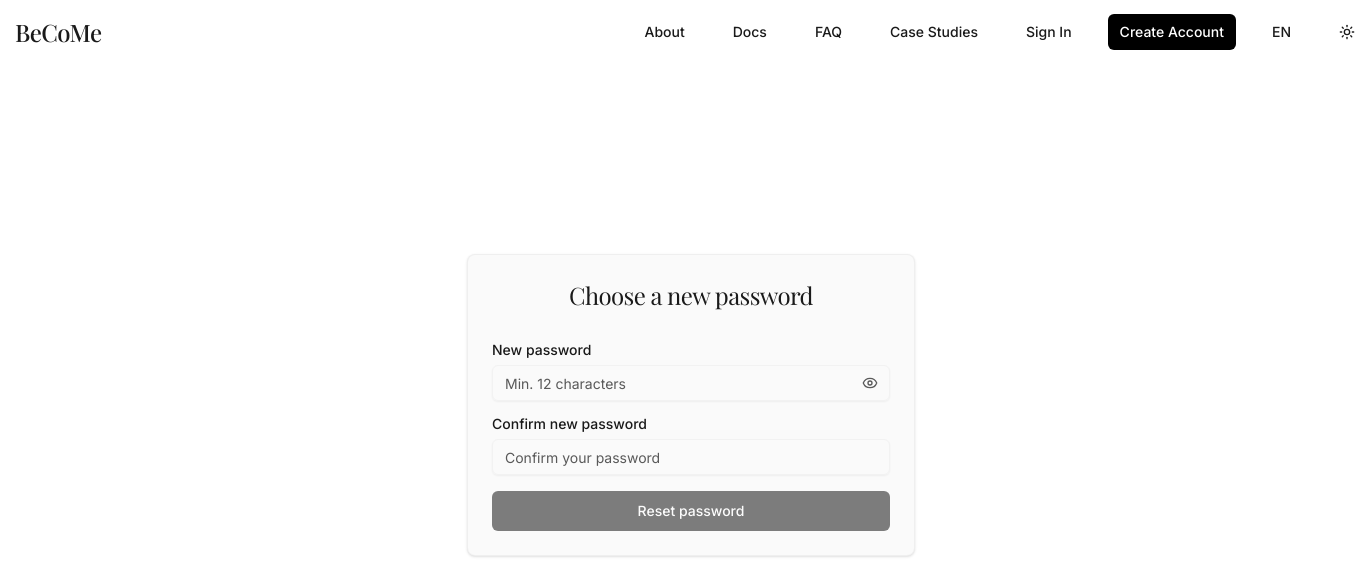
Test: ResetPassword › shows an error when passwords do not match
Type "TestPass123!@#" into the password field with placeholder "Min. 12 characters" at (691, 383), box [492,365,890,401]
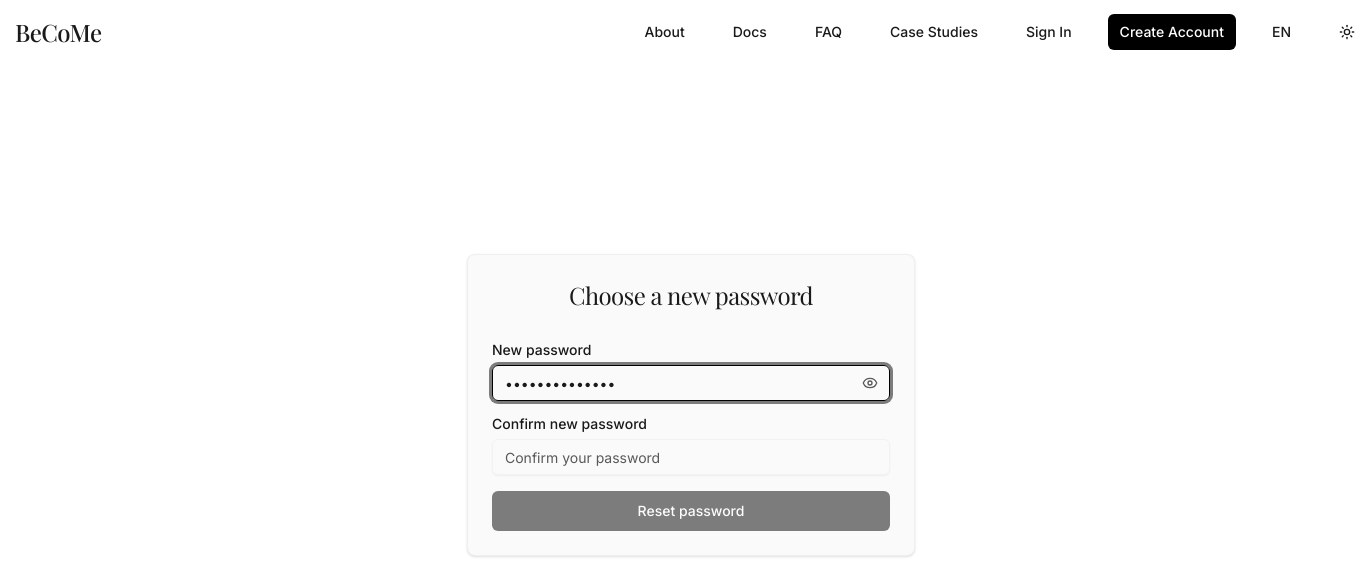
Type "Different123!@#" into the password field with placeholder "Confirm your password" at (691, 457), box [492,439,890,475]
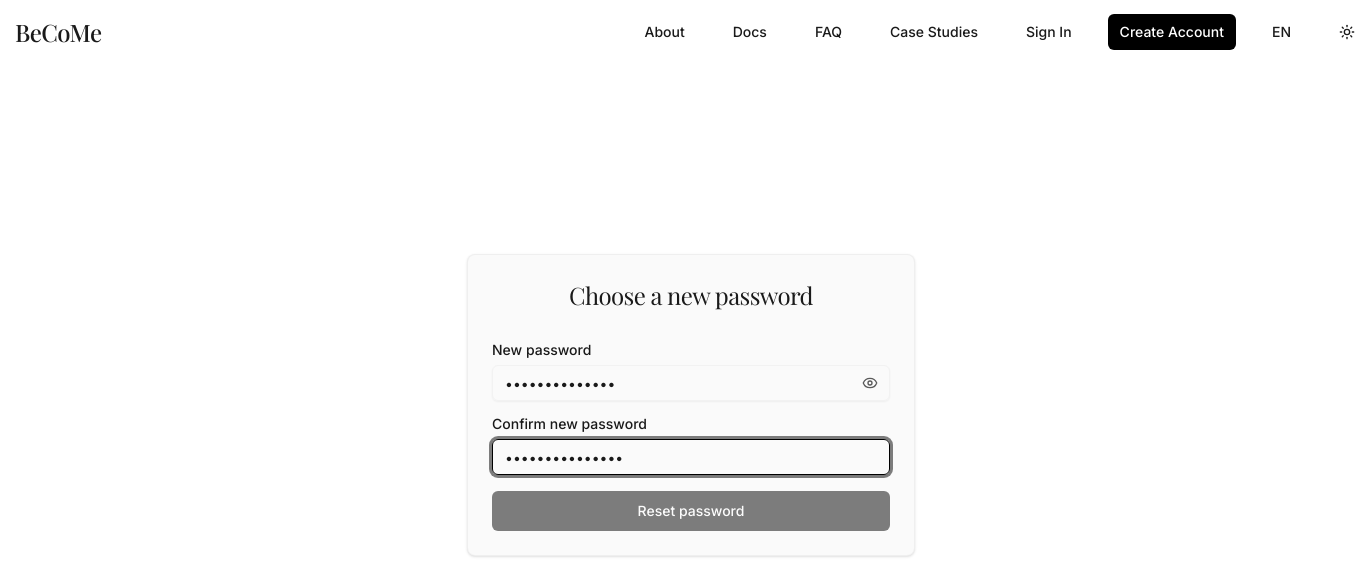
Press Tab
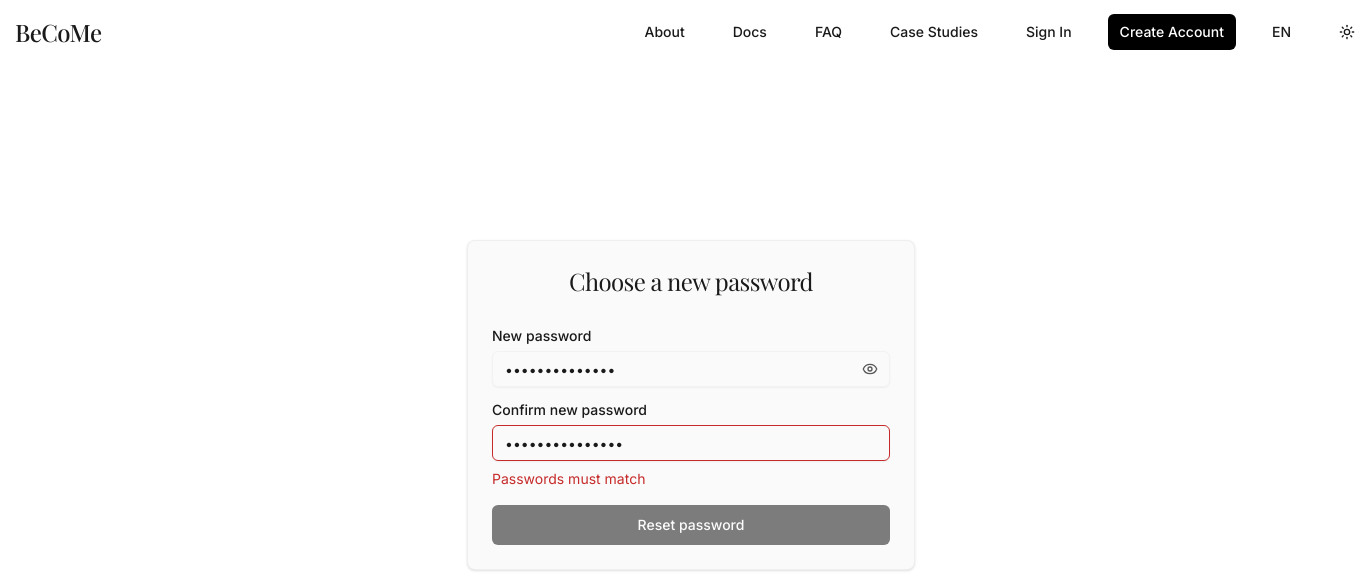
Result: the text "Passwords must match" is shown at [492,470,645,487]
